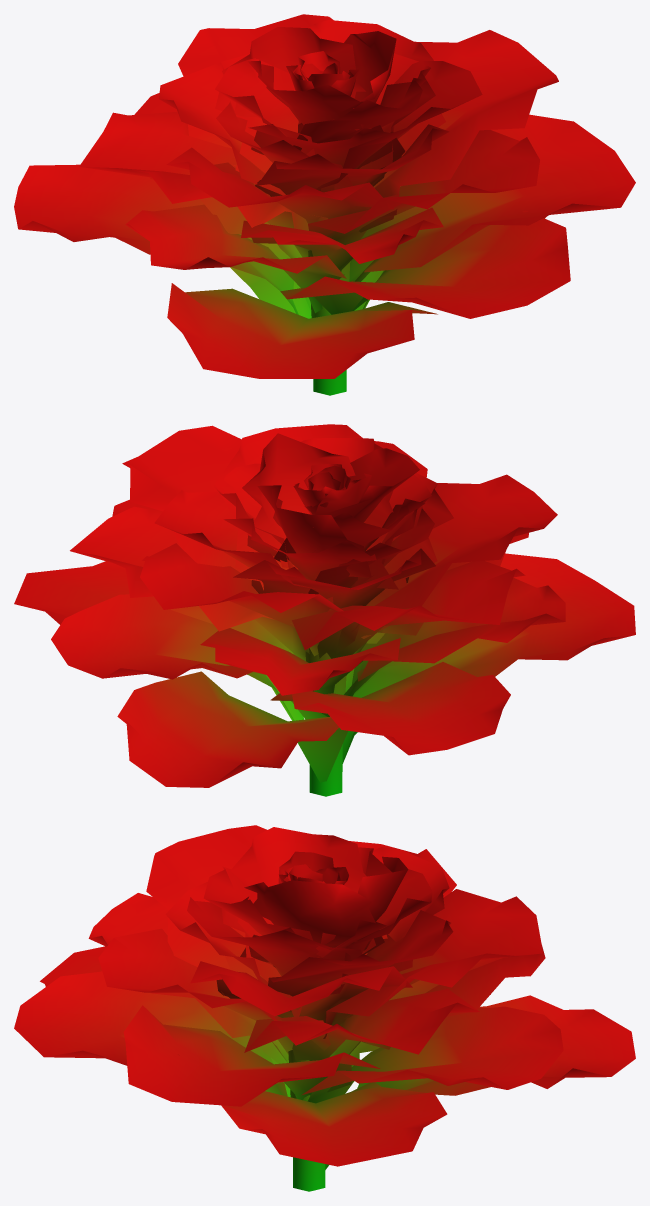
Rendered from Purple Ornamental Kale_LOD2_Var3_ugdieawja.fbx.
3 views of the same model, one above another, from view 1: azimuth 30°, elevation 25°; view 2: azimuth 150°, elevation 25°; view 3: azimuth 270°, elevation 25° (orthographic). The views are drawn at different scales.
Parts seen in each view (by area): view 1: _ccfe_Var3_LOD2; view 2: _ccfe_Var3_LOD2; view 3: _ccfe_Var3_LOD2.
Boxes of the visible parts, left/top/right/bottom form: _ccfe_Var3_LOD2: left=14, top=14, right=635, bottom=395; _ccfe_Var3_LOD2: left=14, top=424, right=635, bottom=796; _ccfe_Var3_LOD2: left=14, top=825, right=635, bottom=1191.
Bounding box in the file's own units: 49.58 × 30.41 × 51.78.
